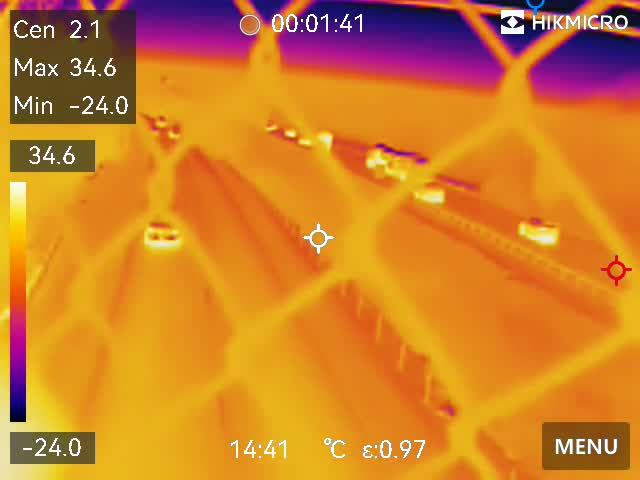heavyTruck: (362, 141, 433, 186)
vehicle: (142, 211, 187, 249), (515, 215, 560, 248), (410, 183, 460, 210)
